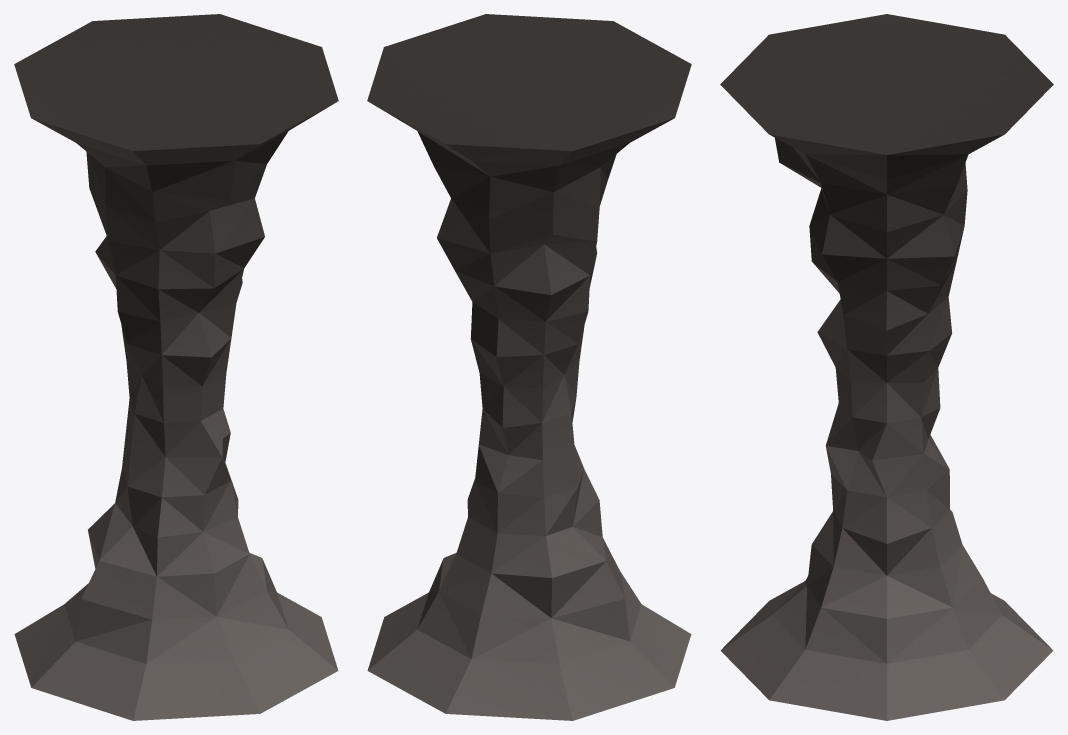
Rendered from Stal_Big_3.fbx.
3 views of the same model, side by side, from view 1: azimuth 30°, elevation 25°; view 2: azimuth 150°, elevation 25°; view 3: azimuth 270°, elevation 25° (orthographic).
Visible parts, largest first — view 1: pCylinder35; view 2: pCylinder35; view 3: pCylinder35.
Boxes of the visible parts, x1=… form: pCylinder35: x1=14, y1=14, x2=338, y2=720; pCylinder35: x1=367, y1=14, x2=691, y2=720; pCylinder35: x1=720, y1=14, x2=1053, y2=720.
Bounding box in the file's own units: 1657 × 3100 × 1657.
1 material, 1 textured.
